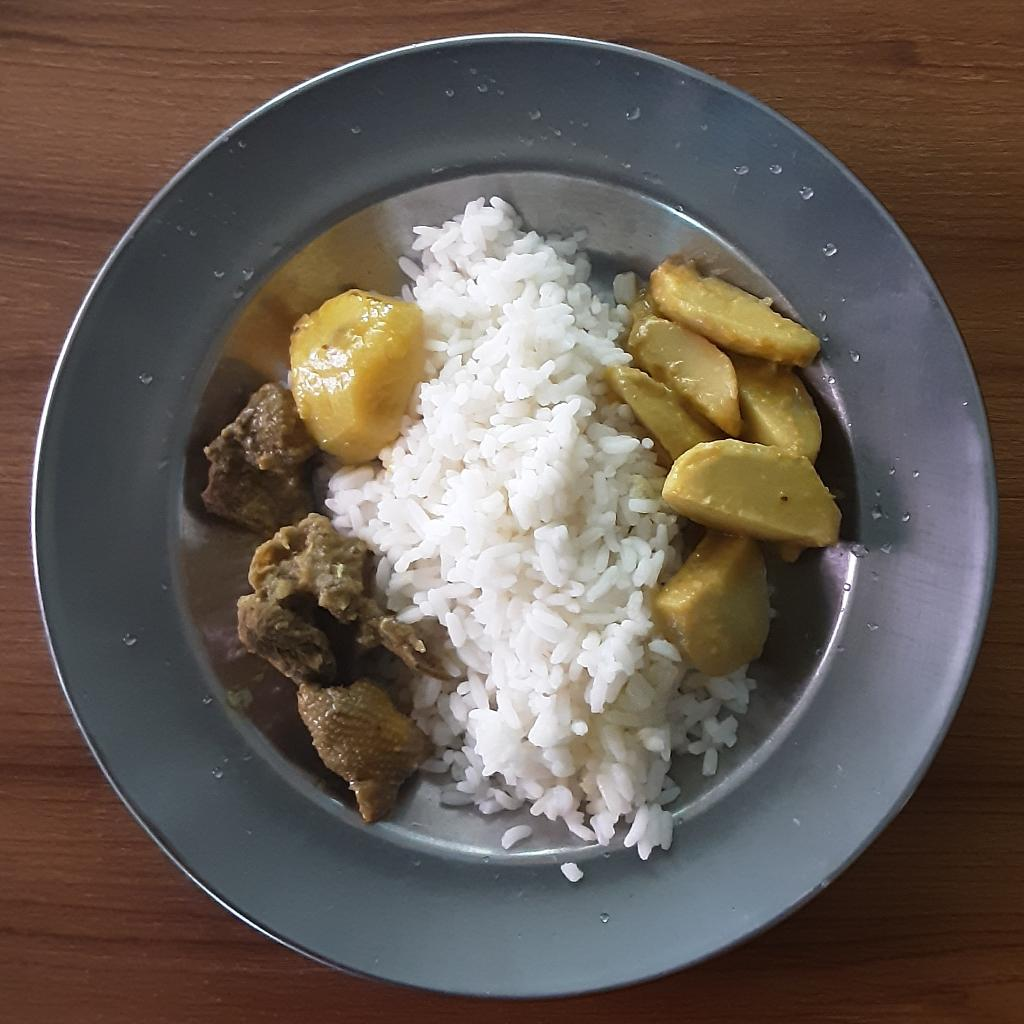chicken: (195, 378, 449, 825)
kochu: (601, 257, 847, 679)
potato: (286, 286, 431, 462)
rice: (325, 193, 754, 862)
